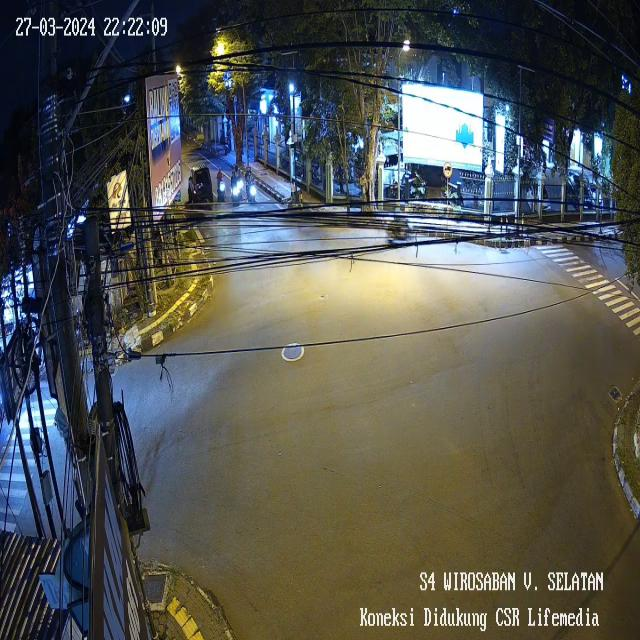car: (184, 154, 215, 212)
motorcycle: (210, 164, 230, 207), (227, 171, 244, 215), (246, 170, 260, 210), (235, 163, 248, 193)
